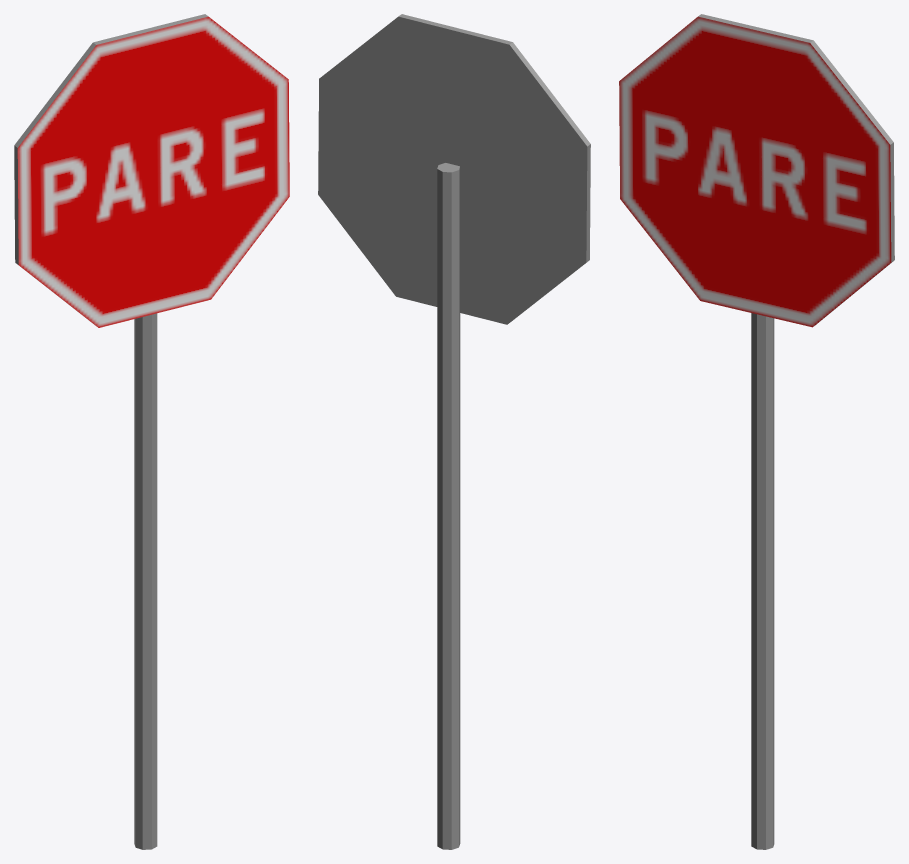
Rendered from PlacaPARE.fbx.
The picture shows the model from 3 angles, left to right: view 1: azimuth 30°, elevation 25°; view 2: azimuth 150°, elevation 25°; view 3: azimuth 330°, elevation 25°; orthographic projection.
Parts seen in each view (by area): view 1: PlacaPare; view 2: PlacaPare; view 3: PlacaPare.
Boxes of the visible parts, left/top/right/bottom form: PlacaPare: left=14, top=14, right=289, bottom=849; PlacaPare: left=318, top=14, right=590, bottom=849; PlacaPare: left=619, top=14, right=894, bottom=849.
Bounding box in the file's own units: 92.89 × 268 × 8.11.
